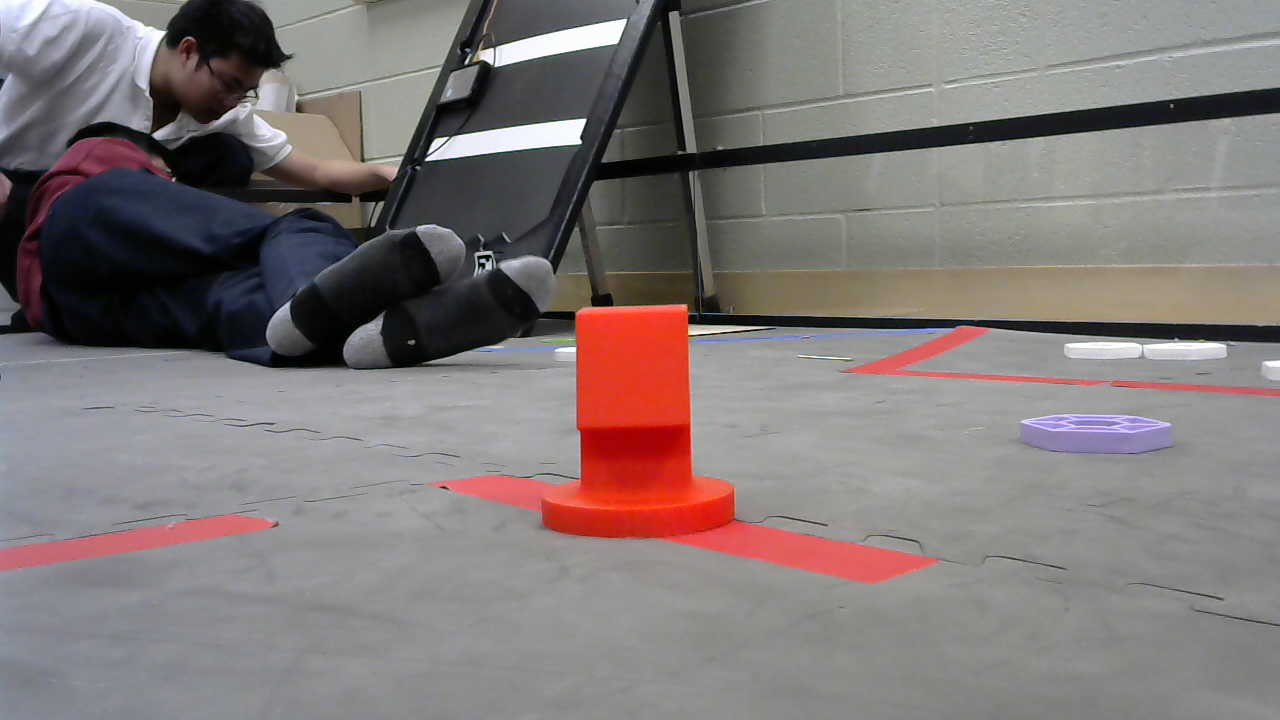redobject: (545, 305, 739, 537)
